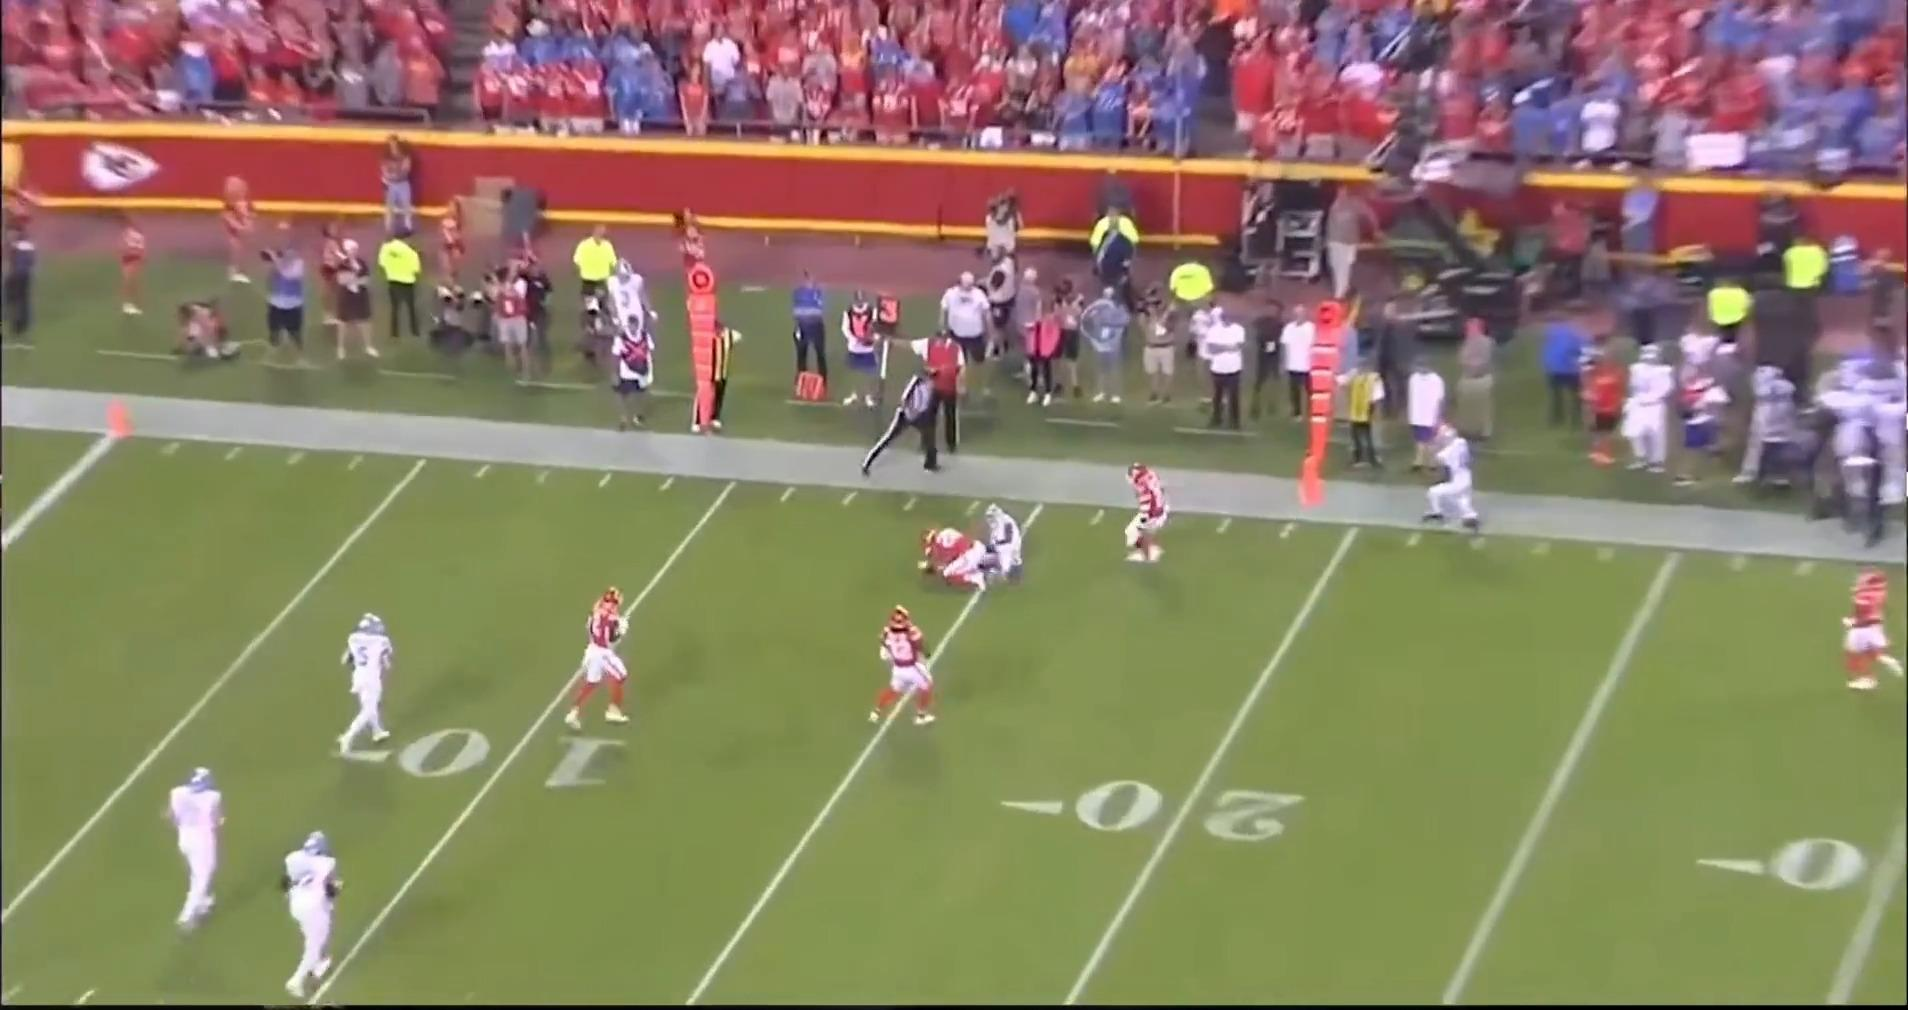player: (158, 762, 232, 943), (271, 825, 345, 995), (555, 580, 633, 730), (332, 613, 401, 767), (1831, 569, 1901, 702), (864, 609, 935, 736), (1424, 419, 1481, 535), (1117, 460, 1172, 573), (958, 497, 1018, 586), (920, 526, 994, 592)
ref: (861, 360, 957, 480)
